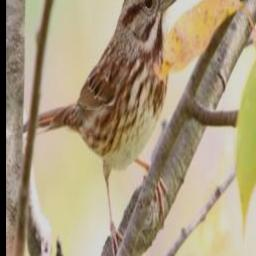Sparrow: (20, 0, 180, 256)
